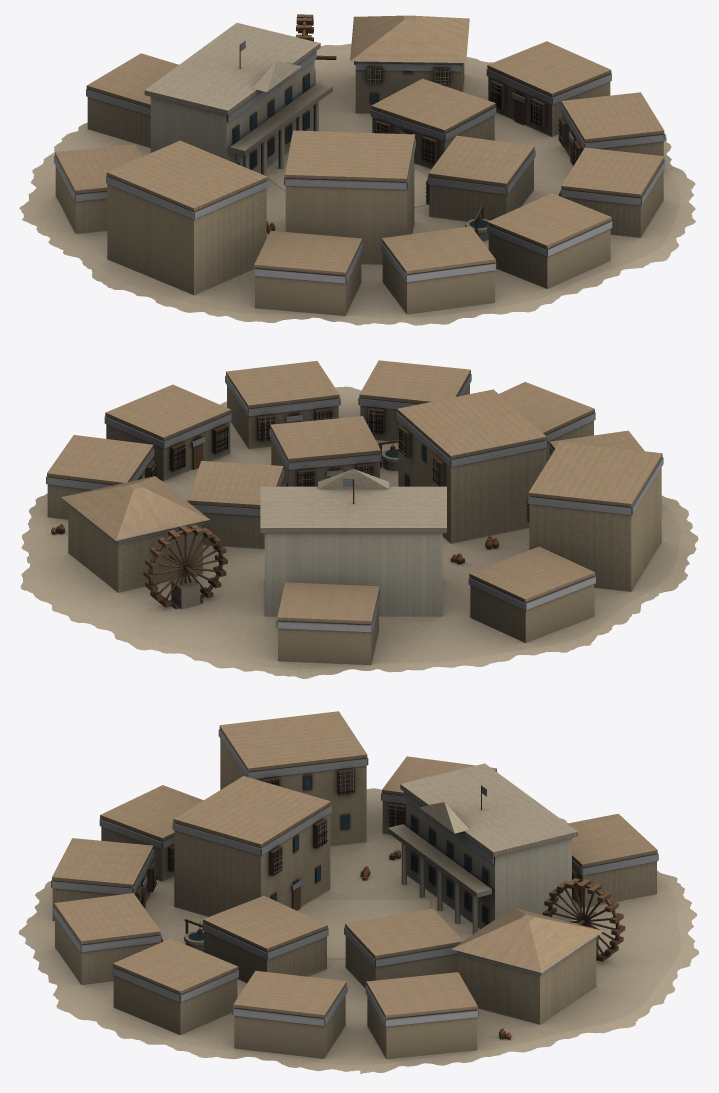
Rendered from gunpowder-town-medium-a-nile-849082d8.glb.
The picture shows the model from 3 angles, top to bottom: view 1: azimuth 30°, elevation 25°; view 2: azimuth 150°, elevation 25°; view 3: azimuth 270°, elevation 25°; orthographic projection.
Parts seen in each view (by area): view 1: LOD0; view 2: LOD0; view 3: LOD0.
Part boxes in pixels (<box>): LOD0: <box>19,14,695,325</box>; LOD0: <box>20,360,698,678</box>; LOD0: <box>19,711,699,1073</box>.
Size of what is drawn, in the model's own units: 5.95 by 1.11 by 5.93.
Materials: 3 (3 with a texture image).
